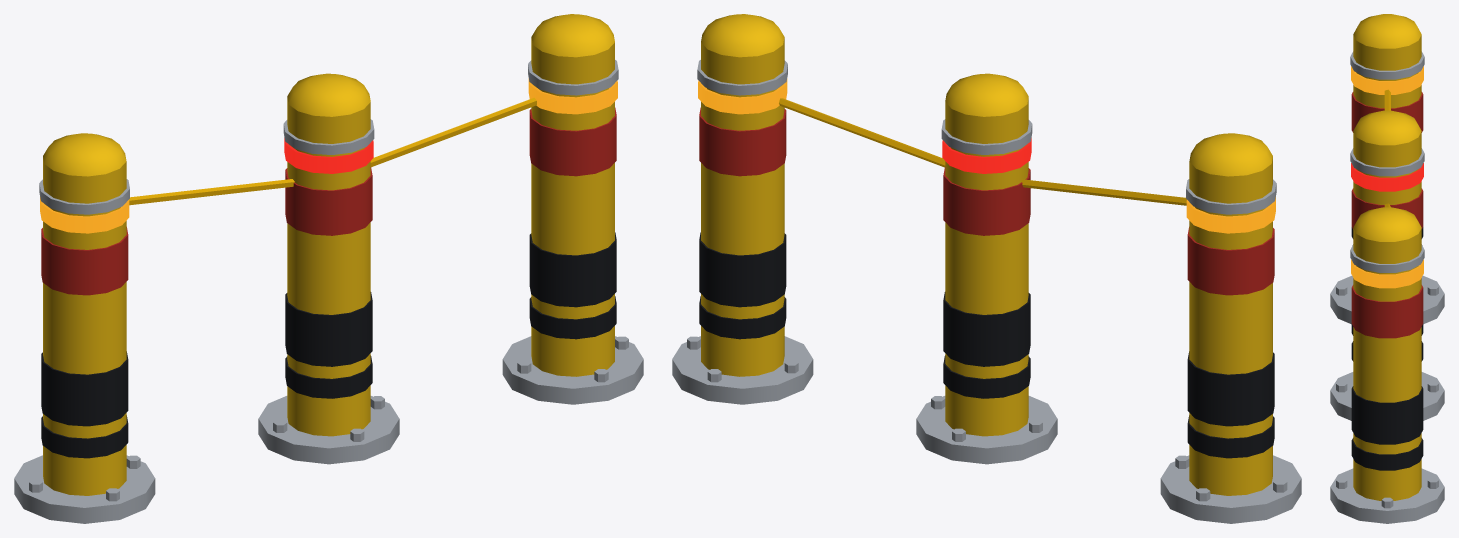
File: hangartool_bollard_set.glb
The picture shows the model from 3 angles, left to right: view 1: azimuth 30°, elevation 25°; view 2: azimuth 150°, elevation 25°; view 3: azimuth 270°, elevation 25°; orthographic projection. The views are drawn at different scales.
Visible parts, largest first — view 1: hangartool_bollard_set; view 2: hangartool_bollard_set; view 3: hangartool_bollard_set.
Part boxes in pixels (bbox=[...]): hangartool_bollard_set: bbox=[14, 14, 643, 523]; hangartool_bollard_set: bbox=[672, 14, 1301, 523]; hangartool_bollard_set: bbox=[1330, 14, 1444, 523].
Bounding box in the file's own units: 2 × 1.11 × 0.4.
